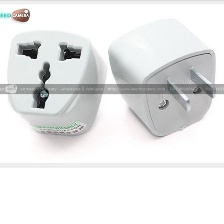three_eye_plug: (105, 15, 220, 140), (4, 25, 108, 138)
